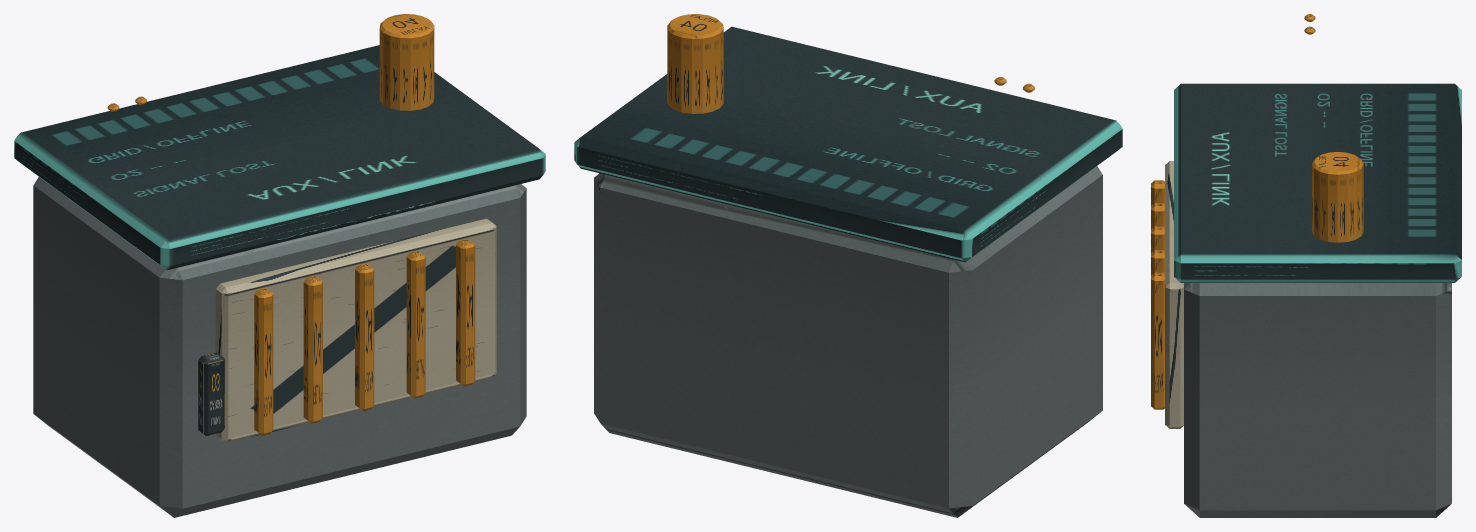
The model's file is generator_LOD0.obj.
3 views of the same model, side by side, from view 1: azimuth 30°, elevation 25°; view 2: azimuth 150°, elevation 25°; view 3: azimuth 270°, elevation 25° (orthographic). The views are drawn at different scales.
Visible parts, largest first — view 1: L02_generator_LOD0; view 2: L02_generator_LOD0; view 3: L02_generator_LOD0.
Boxes of the visible parts, x1,y1,x2,y2 form: L02_generator_LOD0: [14, 14, 545, 517]; L02_generator_LOD0: [574, 14, 1122, 517]; L02_generator_LOD0: [1151, 14, 1461, 517].
Size of the model in its own units: 2.1 by 1.93 by 1.56.
1 material, 1 textured.
